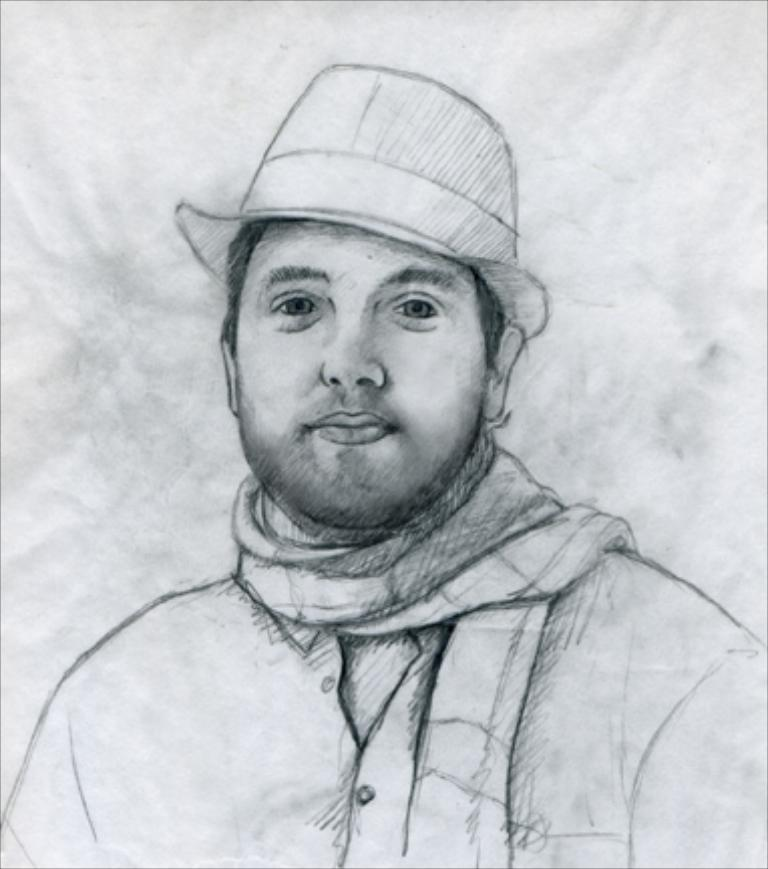Hat: (172, 62, 546, 343)
